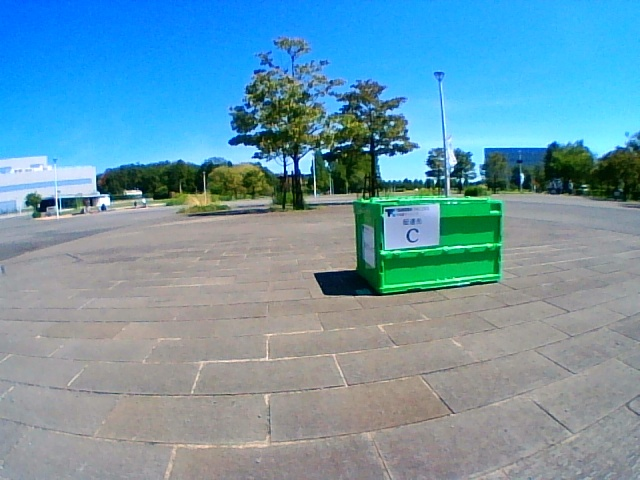green_box: (353, 195, 502, 294)
tag_c: (388, 208, 438, 246)
